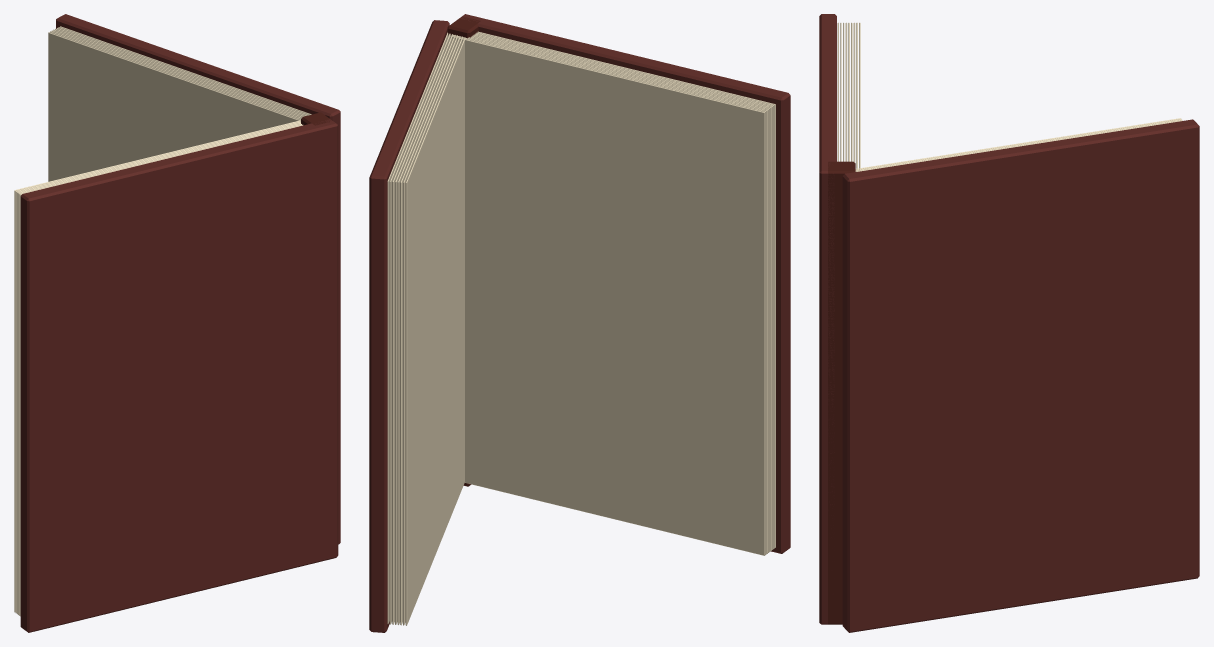
Rendered from Libro .fbx.
The picture shows the model from 3 angles, left to right: view 1: azimuth 30°, elevation 25°; view 2: azimuth 150°, elevation 25°; view 3: azimuth 270°, elevation 25°; orthographic projection. The views are drawn at different scales.
Visible parts, largest first — view 1: Cover_Back, pag fren, Cover_Front, pag tras, pag tras 2, pag tras 4, pag tras 5, pag tras 3, pag fren 2, pag fren 7, pag fren 3, pag fren 4 (+3 smaller); view 2: pag tras, pag fren, Cover_Front, Cover_Back, pag fren 7, pag fren 4, pag fren 6, pag fren 5, pag fren 2, pag fren 3, pag fren 8, pag tras 2 (+7 smaller); view 3: Cover_Front, Cover_Back, Book_Spine, pag fren 2, pag fren.
Part boxes in pixels (x1,y1,x2,y2): Cover_Back: (20, 119, 338, 632); pag fren: (48, 32, 300, 181); Cover_Front: (56, 14, 340, 544); pag tras: (14, 120, 300, 612); pag tras 2: (15, 121, 300, 613); pag tras 4: (18, 124, 302, 614); pag tras 5: (19, 125, 302, 616); pag tras 3: (17, 123, 300, 614); pag fren 2: (50, 31, 300, 120); pag fren 7: (58, 27, 309, 115); pag fren 3: (51, 30, 301, 118); pag fren 4: (53, 29, 302, 117); pag tras: (450, 35, 765, 555); pag fren: (405, 37, 465, 625); Cover_Front: (369, 20, 449, 632); Cover_Back: (460, 14, 790, 553); pag fren 7: (389, 33, 450, 624); pag fren 4: (397, 35, 457, 624); pag fren 6: (392, 34, 452, 624); pag fren 5: (395, 35, 455, 624); pag fren 2: (403, 36, 462, 625); pag fren 3: (400, 36, 460, 625); pag fren 8: (387, 32, 448, 624); pag tras 2: (452, 34, 766, 554); Cover_Front: (842, 119, 1199, 632); Cover_Back: (819, 14, 836, 624); Book_Spine: (828, 161, 855, 624); pag fren 2: (855, 119, 1181, 170); pag fren: (855, 118, 1180, 169).
Size of the model in its own units: 171 by 217 by 165.
